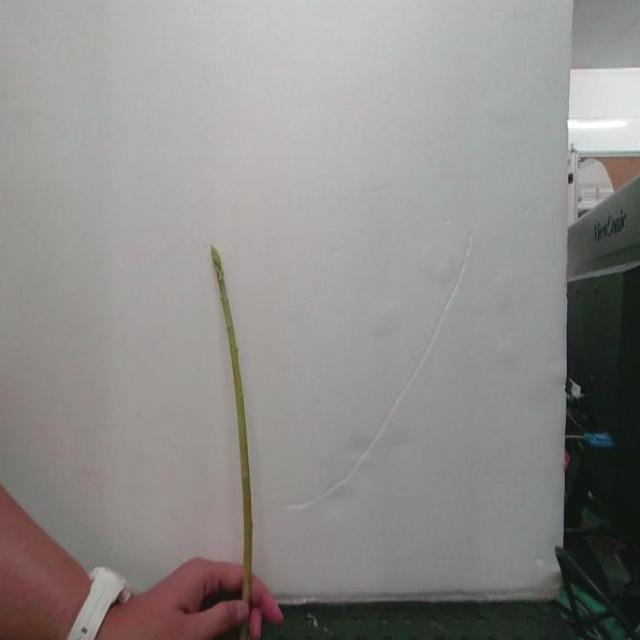aspargus: (210, 248, 255, 613)
